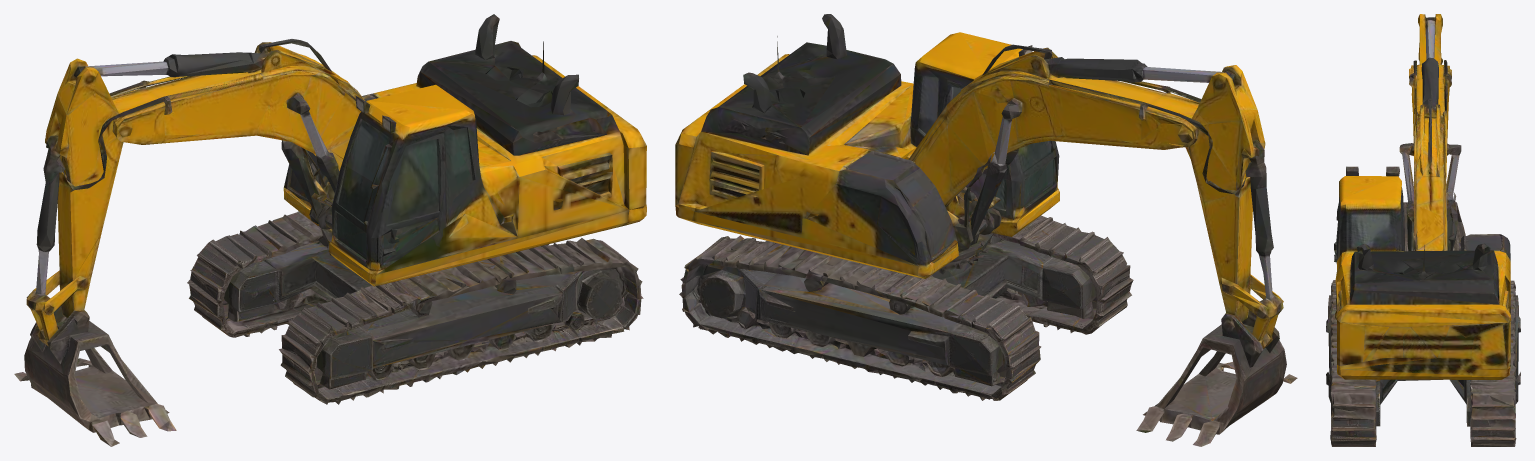
The model's file is bagger.glb.
The picture shows the model from 3 angles, left to right: view 1: azimuth 30°, elevation 25°; view 2: azimuth 150°, elevation 25°; view 3: azimuth 270°, elevation 25°; orthographic projection. The views are drawn at different scales.
Parts seen in each view (by area): view 1: Mesh_0; view 2: Mesh_0; view 3: Mesh_0.
Part boxes in pixels (x1,y1,x2,y2): Mesh_0: (14,14,646,446); Mesh_0: (675,14,1297,446); Mesh_0: (1326,14,1520,446).
Bounding box in the file's own units: 6.4 × 3.77 × 2.56.
1 material, 1 textured.
